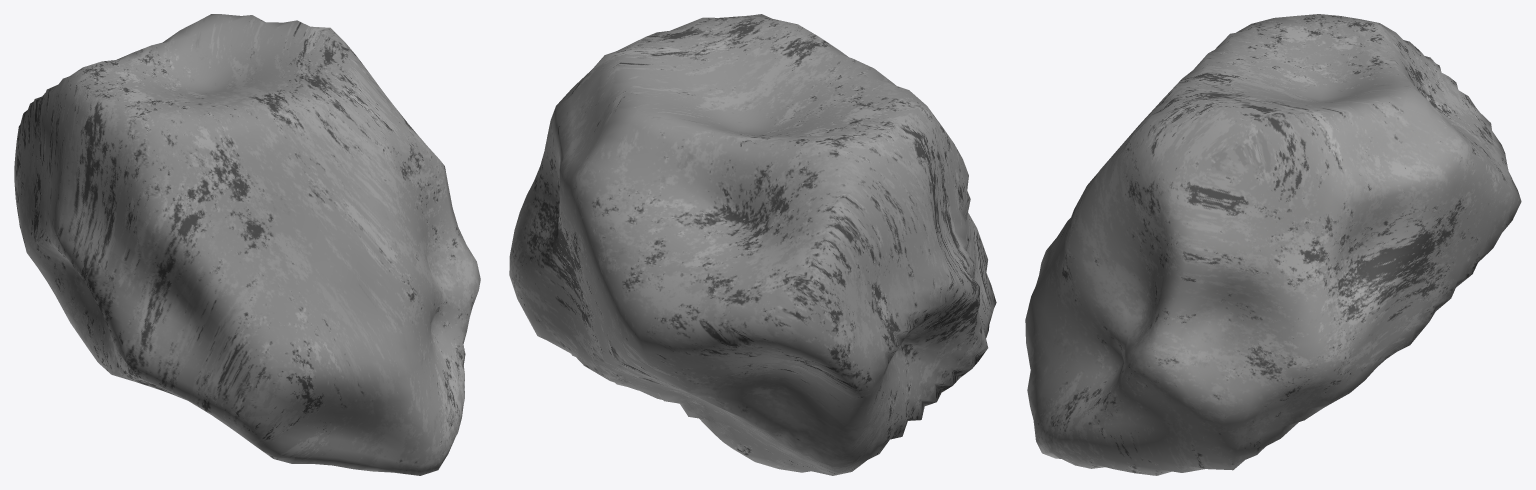
File: silver_ore.glb
3 renders of one model, left to right at view 1: azimuth 30°, elevation 25°; view 2: azimuth 150°, elevation 25°; view 3: azimuth 270°, elevation 25°, orthographic. The views are drawn at different scales.
Parts seen in each view (by area): view 1: Cube.002; view 2: Cube.002; view 3: Cube.002.
Part boxes in pixels (box(x1,y1,x2,y2)): Cube.002: box(14, 14, 480, 475); Cube.002: box(509, 14, 996, 475); Cube.002: box(1025, 14, 1521, 475).
Bounding box in the file's own units: 1.6 × 1.43 × 1.82.
Materials: 1 (1 with a texture image).
